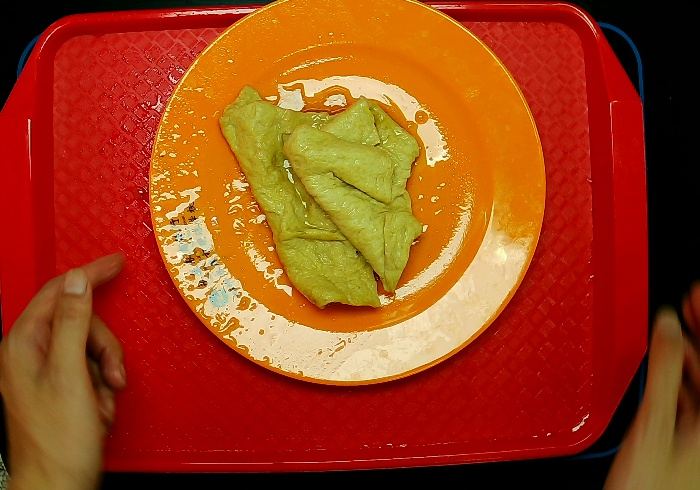YKMZ-Ju_Se_Mian_Pan: (133, 1, 563, 415)
